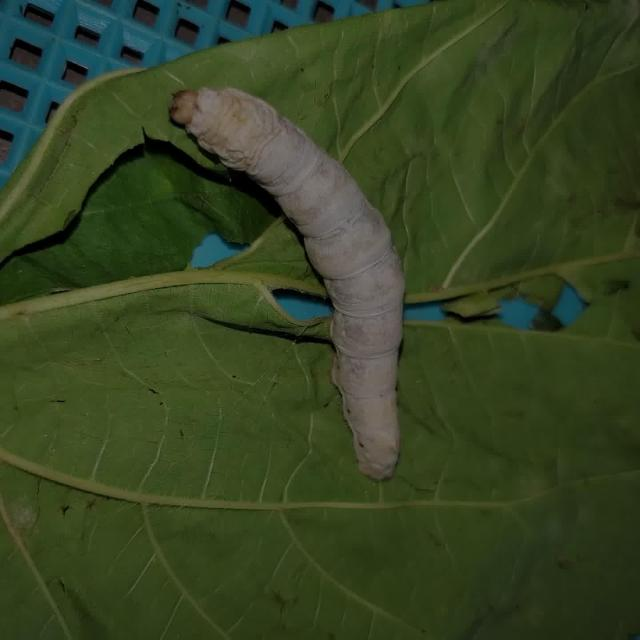Grasserie: (164, 70, 422, 482)
